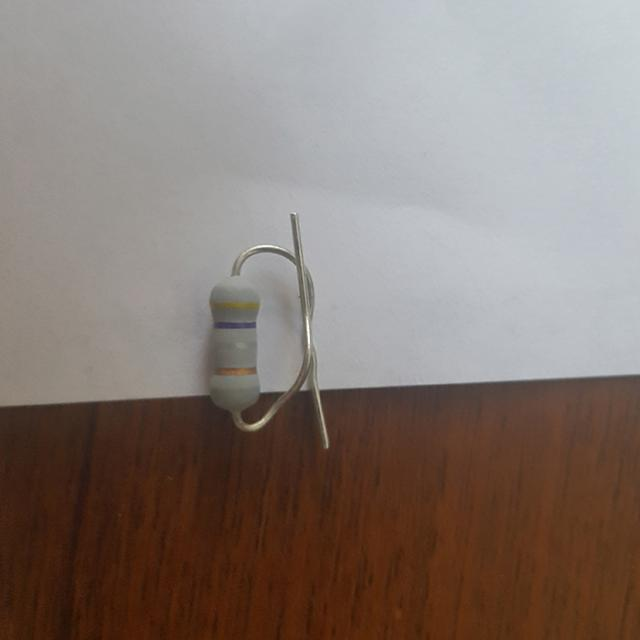Resistor Carbon-Film: (209, 276, 261, 411)
